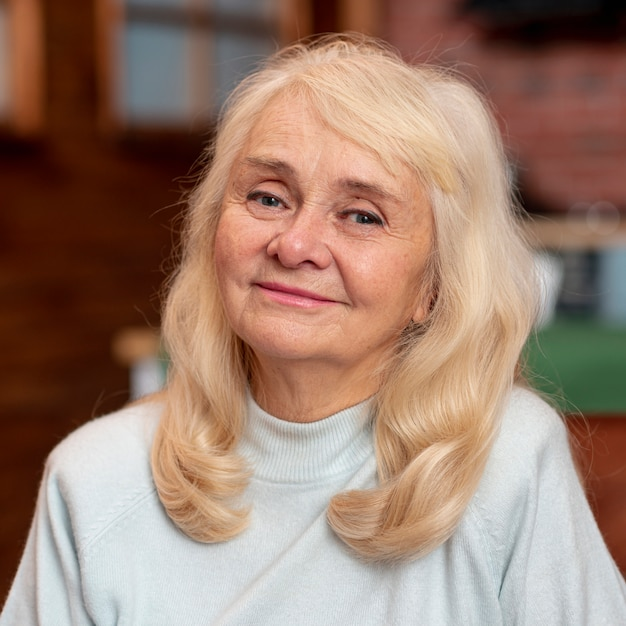young: (163, 42, 491, 404)
